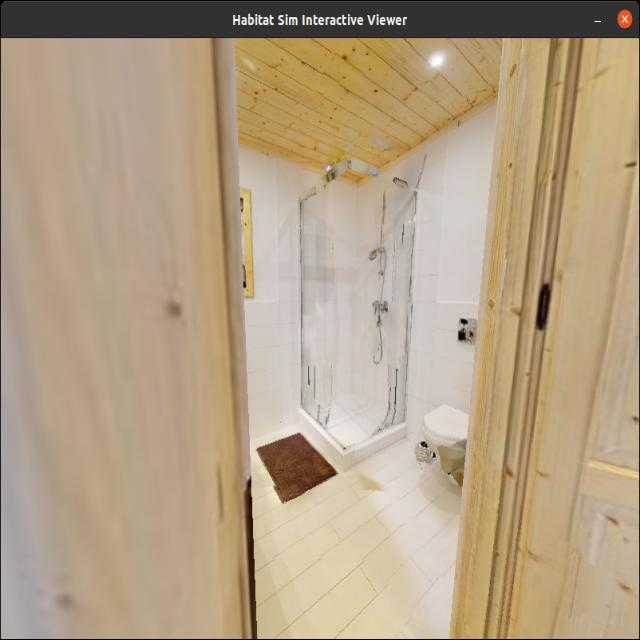shower: (289, 153, 416, 458)
toilet: (419, 393, 474, 456)
